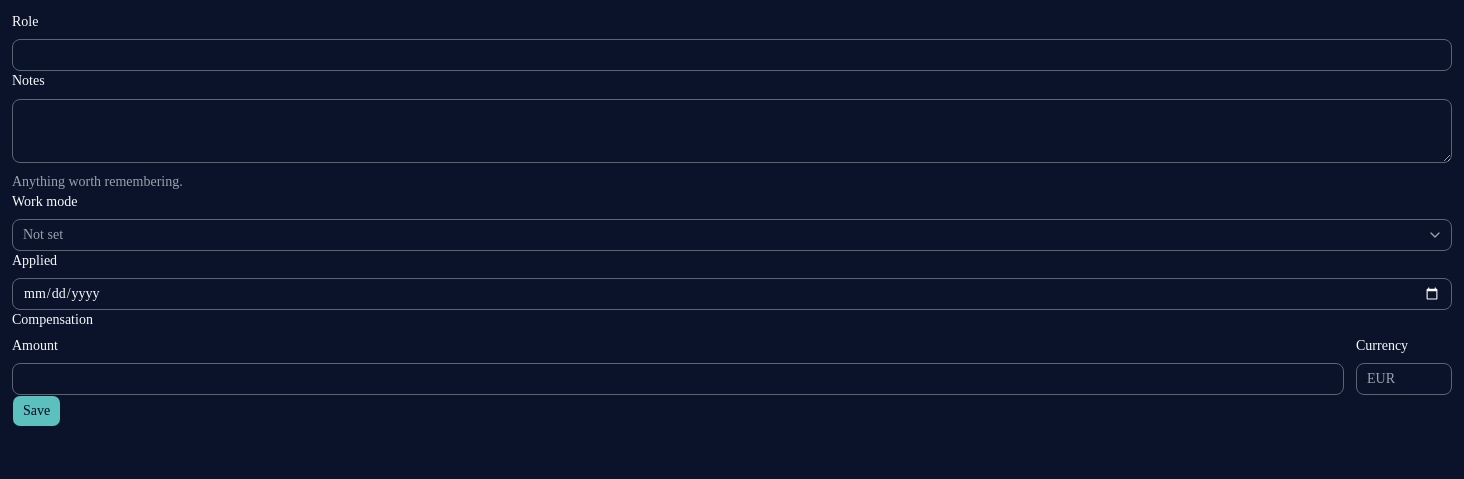
Scenario: the money pair › reports one problem at the group, not one per box
This screenshot has width=1464, height=479.
In the field labelled "Role": [732, 55] box [12,39,1452,71], type "Frontend Engineer"
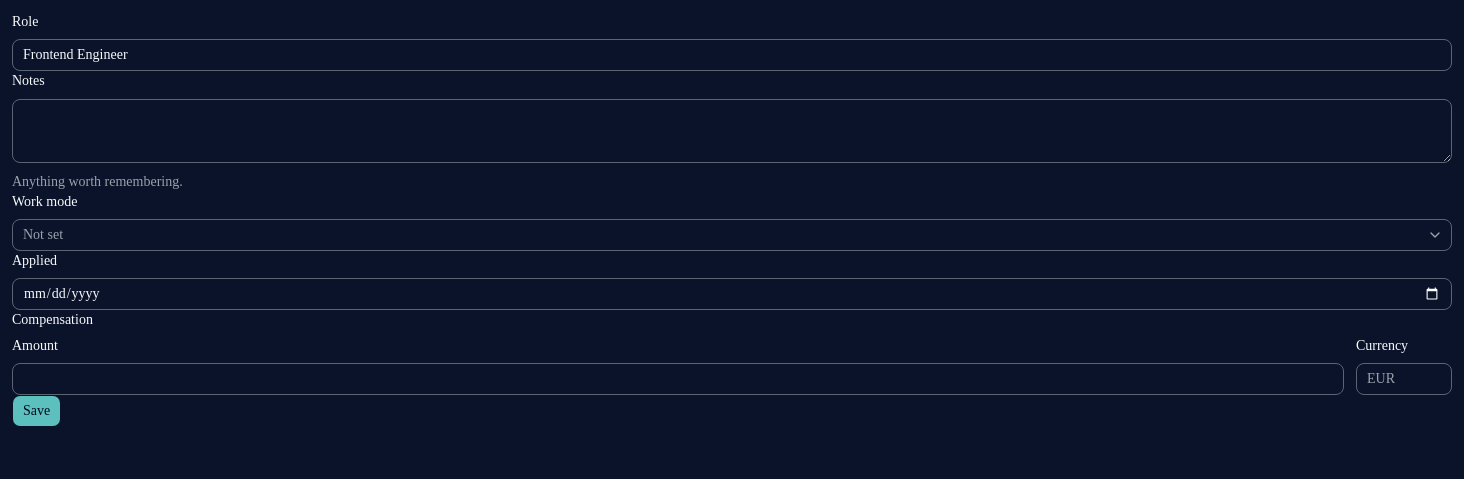
In the field labelled "Amount": [678, 379] box [12,363,1344,395], type "75000"
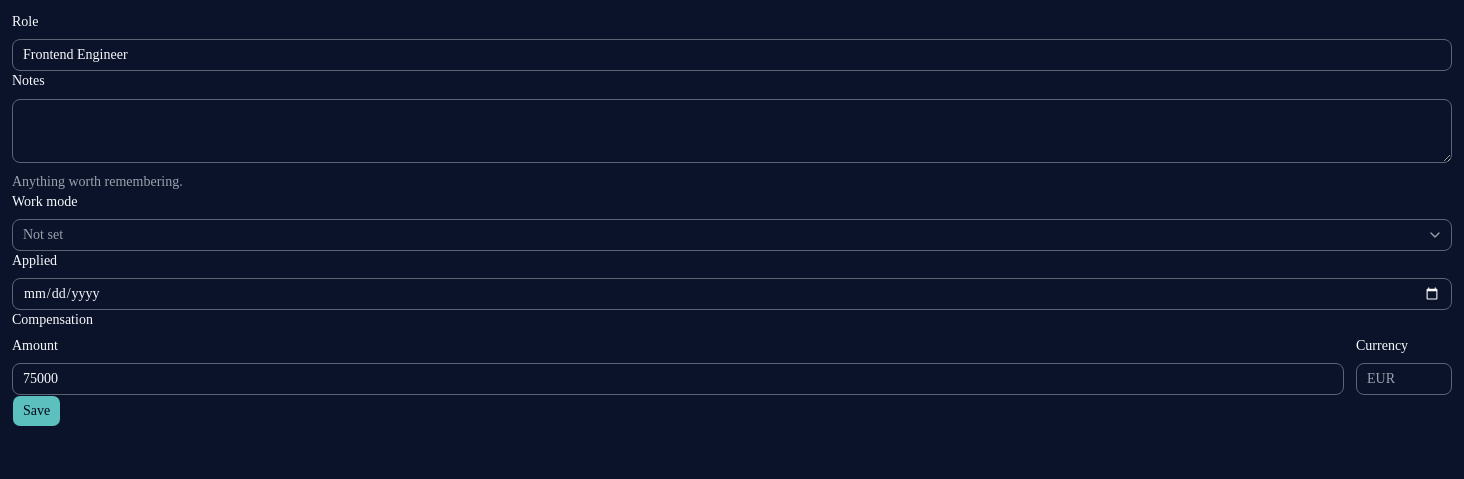
Click the button "Save": [37, 411] box [12,395,61,427]
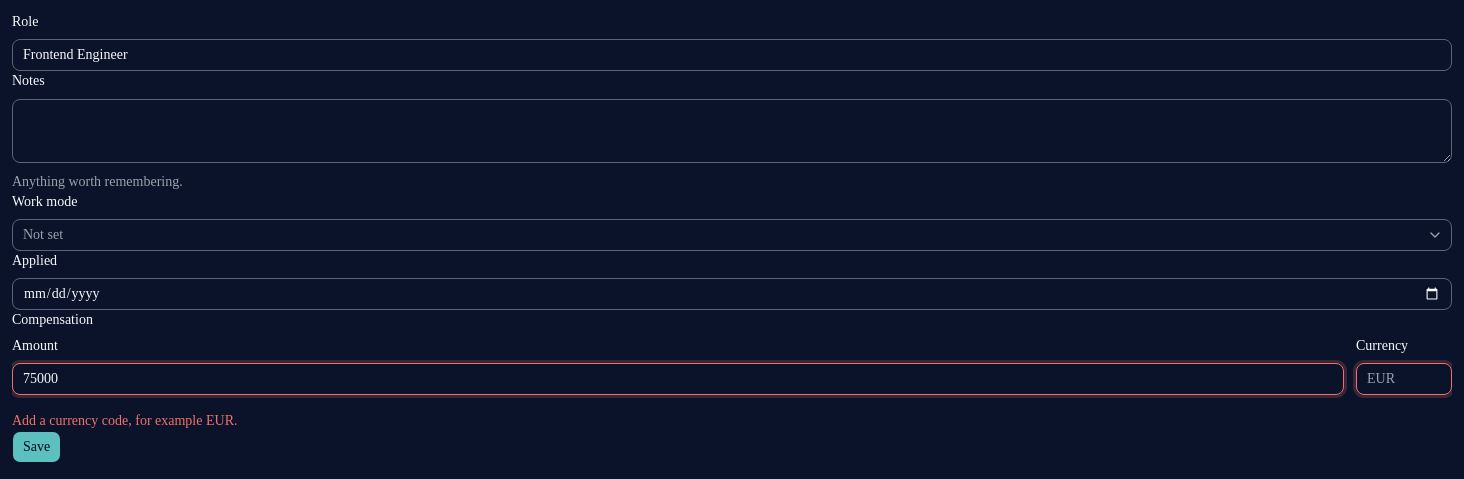
Result: the number of list items is 1 at [12,413,238,428]
Result: the list item reads "Add a currency code, for example EUR." at [12,413,238,428]
